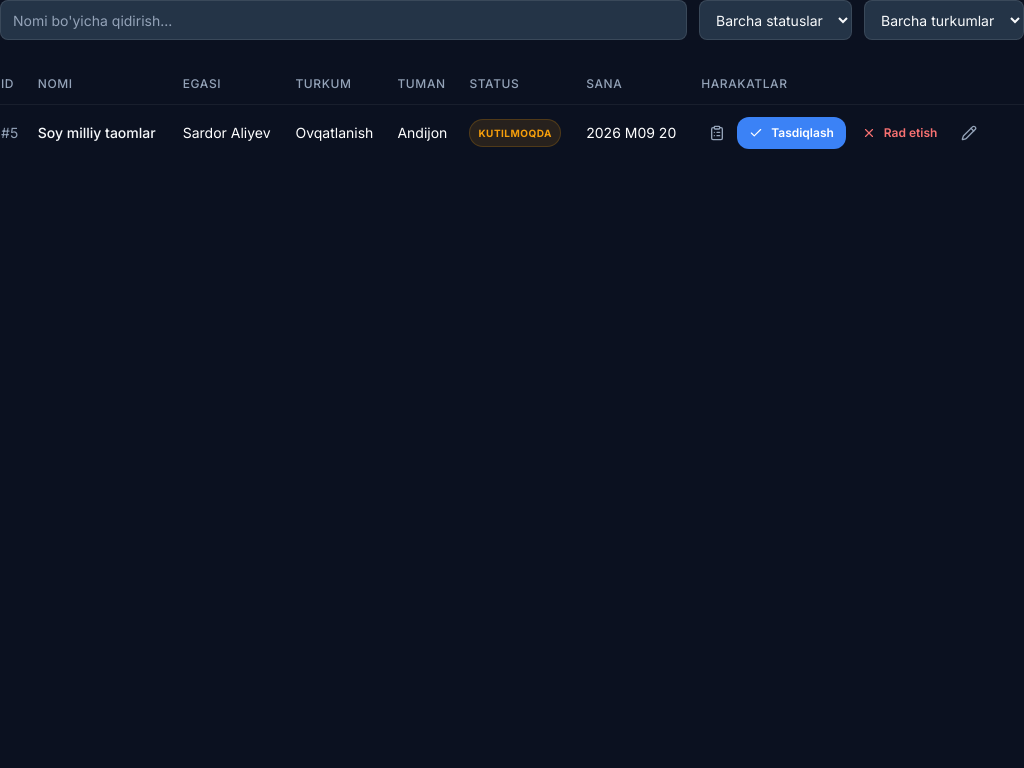
AdminBusinessesView — review drawer › goes back from the reason form, and closes without deciding anything
Expected: the text "Soy milliy taomlar" is shown, [38,123,166,143]
Click the button "Rad etish" at (900, 133), box [850,117,949,149]
(page scrolled)
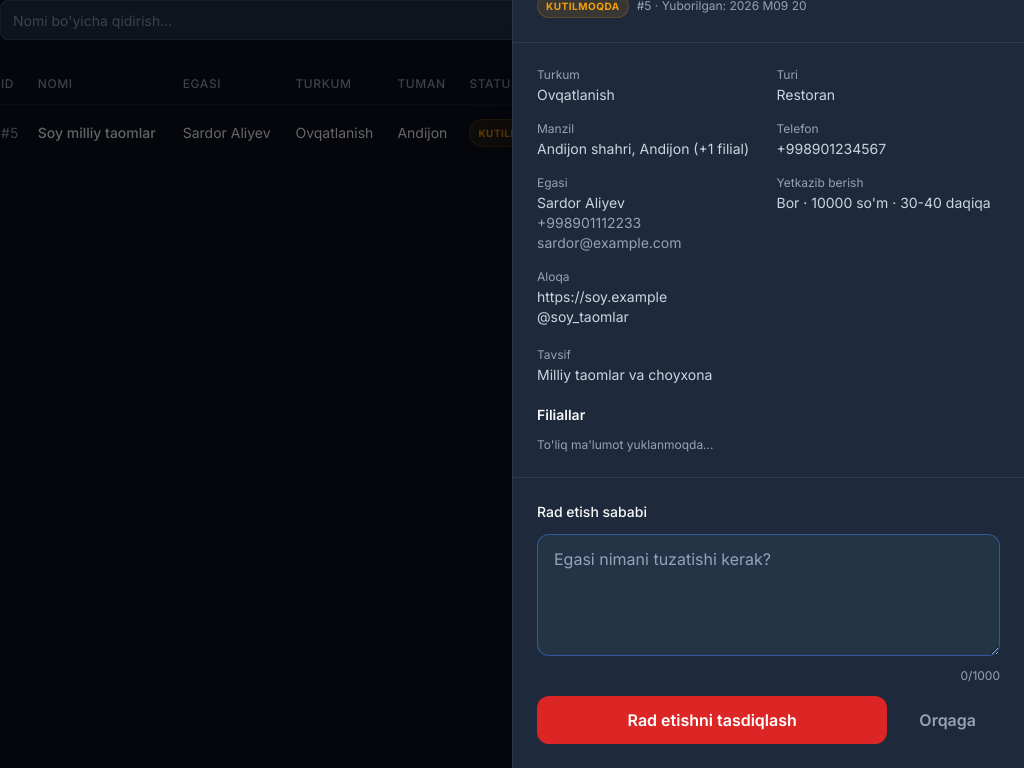
Click the button "Orqaga" at (948, 720), box [895,696,1000,744]
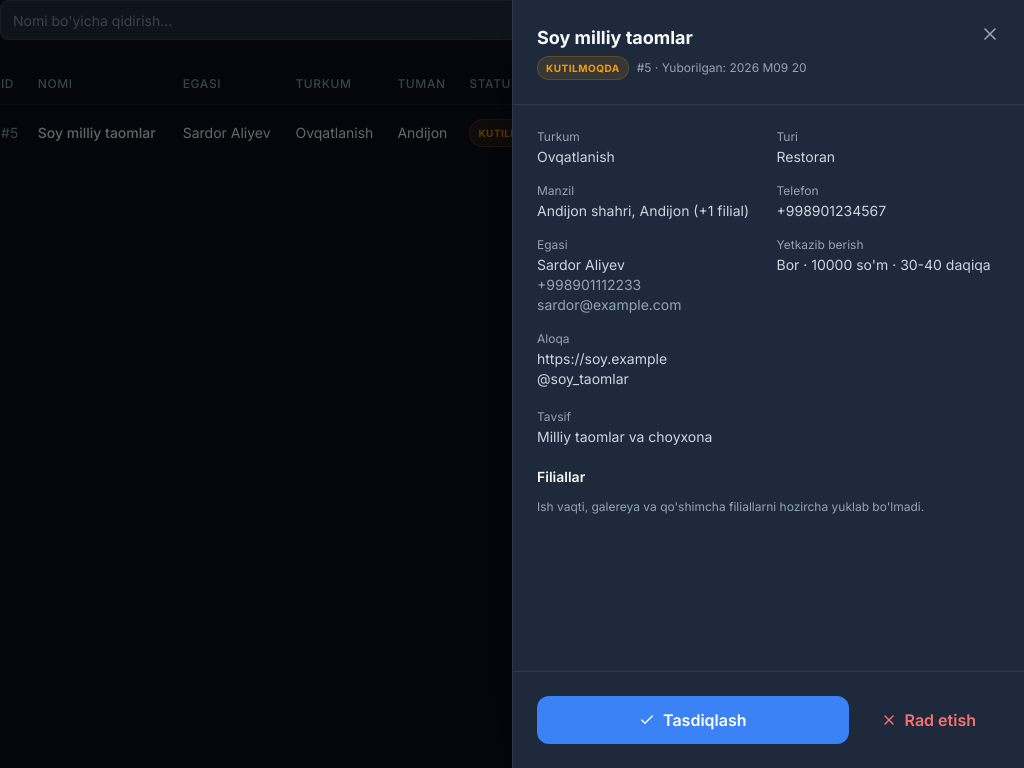
Click the button named "Yopish" at (990, 34), box [980,24,1000,44]
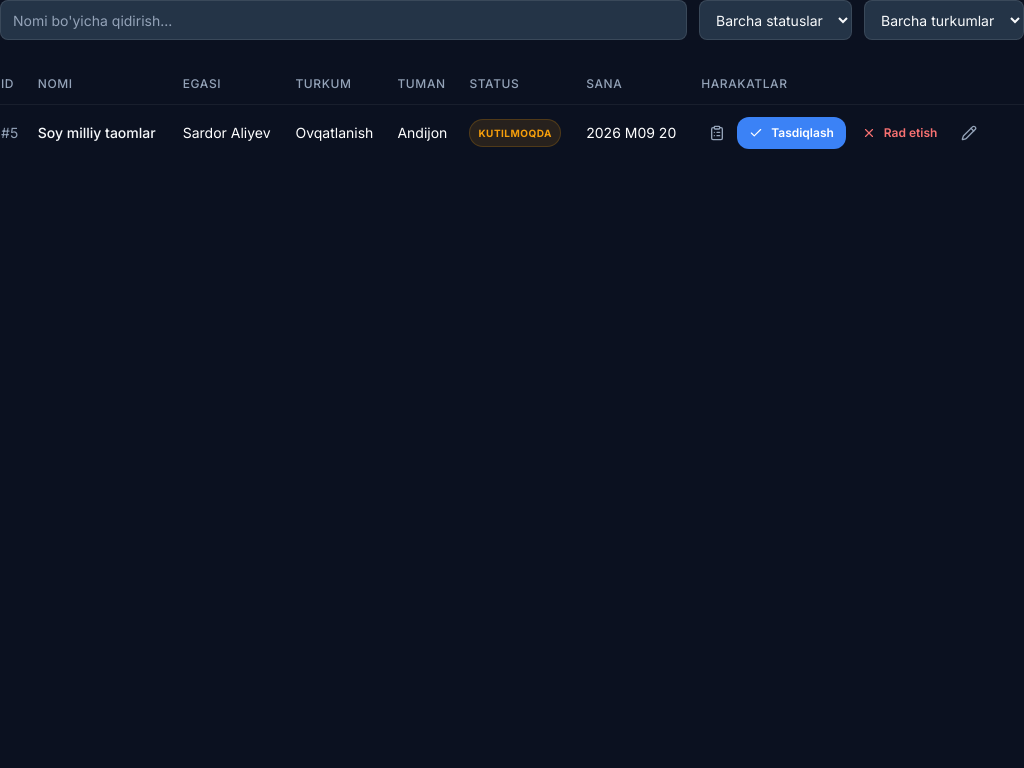
Expected: the dialog is gone
